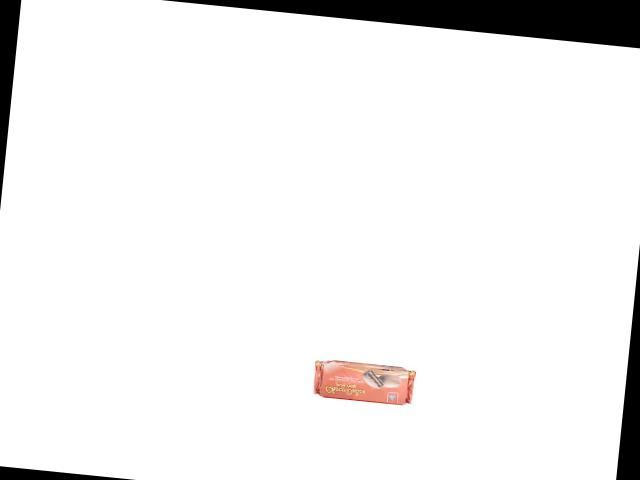chocolate: (310, 349, 419, 407)
